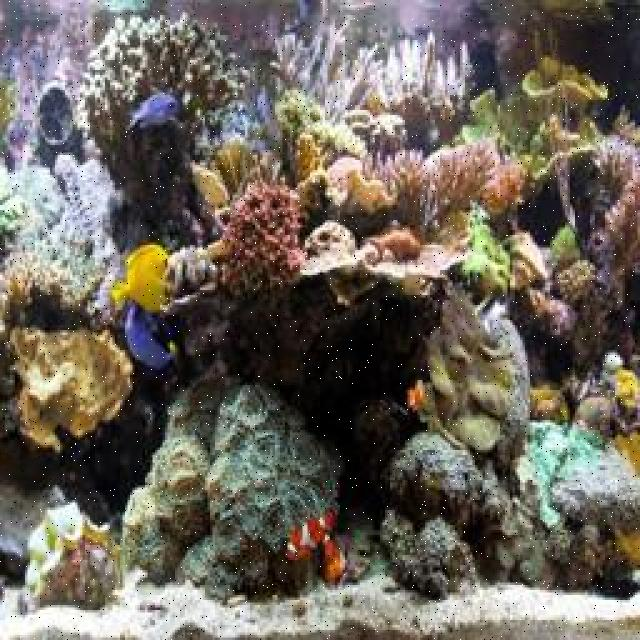aquatic plants: (459, 59, 609, 180), (460, 203, 515, 298), (553, 226, 582, 269)
fish: (111, 246, 169, 314), (286, 511, 334, 560), (123, 89, 179, 125), (323, 539, 348, 583)
reefs: (75, 14, 249, 257), (409, 282, 530, 461), (372, 143, 525, 255), (6, 324, 135, 454), (25, 502, 126, 615), (209, 182, 311, 293), (300, 155, 396, 248), (525, 421, 605, 526)
sea-floor: (124, 375, 343, 601), (391, 432, 508, 535), (383, 513, 485, 600)
